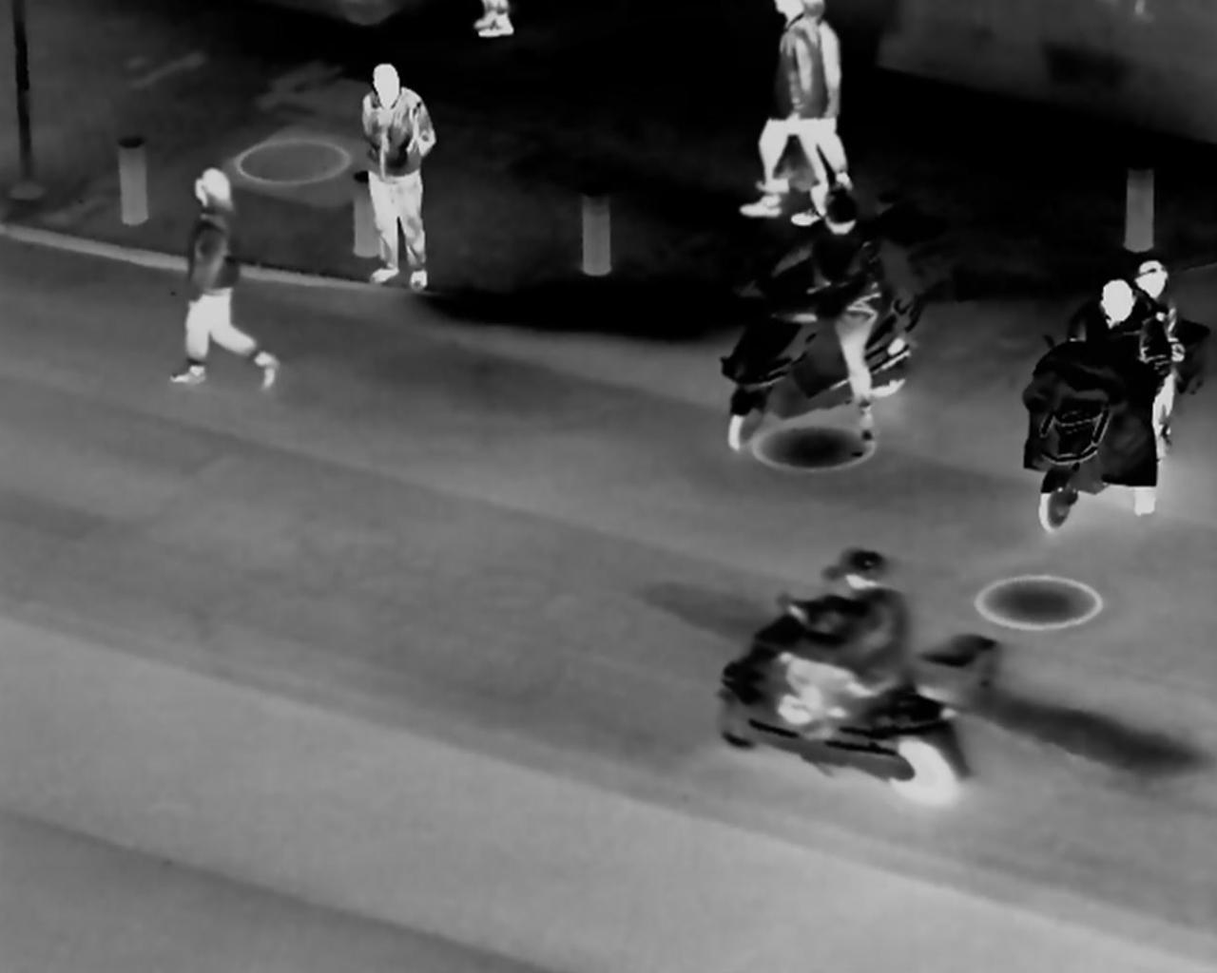person: (163, 162, 294, 399), (786, 187, 899, 456), (784, 528, 917, 751), (351, 63, 447, 293), (1084, 282, 1154, 515), (770, 5, 828, 231), (1137, 255, 1191, 467)
